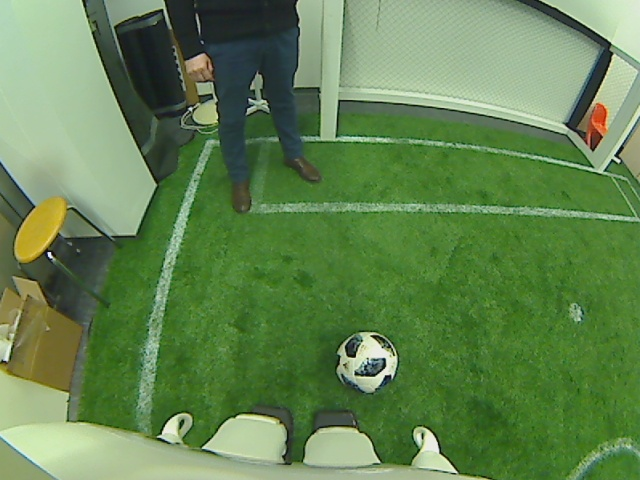ball: (333, 326, 398, 394)
